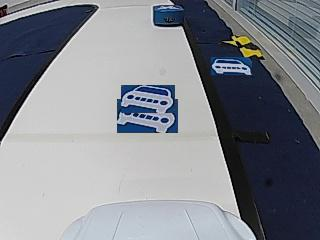prop: (153, 5, 184, 27)
